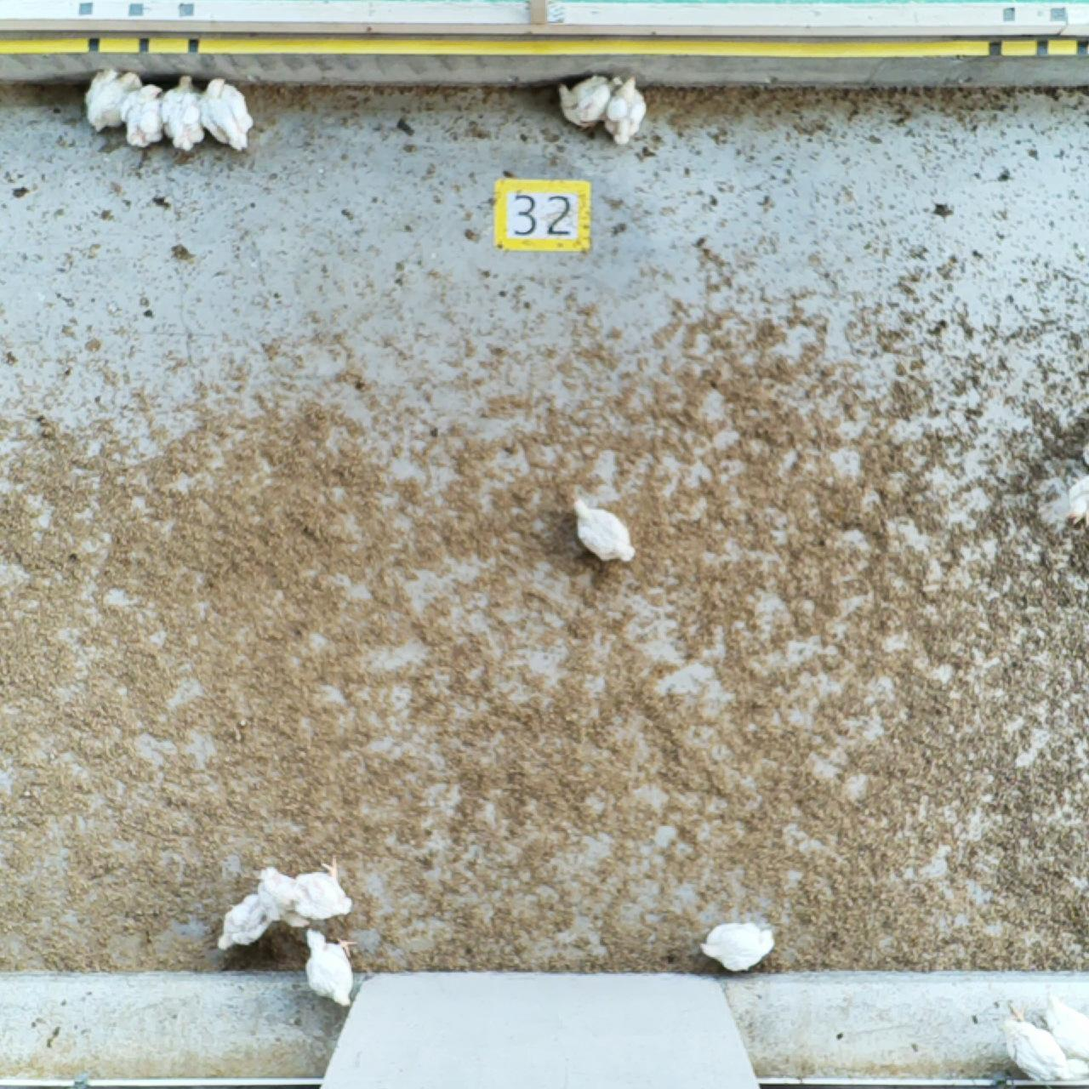chicken: (1001, 1012, 1086, 1081), (568, 499, 636, 565), (303, 926, 356, 1006), (202, 74, 253, 151), (300, 860, 359, 919), (698, 923, 773, 969), (554, 70, 612, 127), (1044, 988, 1089, 1058), (214, 892, 268, 950), (258, 861, 306, 923), (162, 73, 200, 150), (84, 66, 128, 128), (608, 71, 643, 143), (126, 83, 165, 143)
